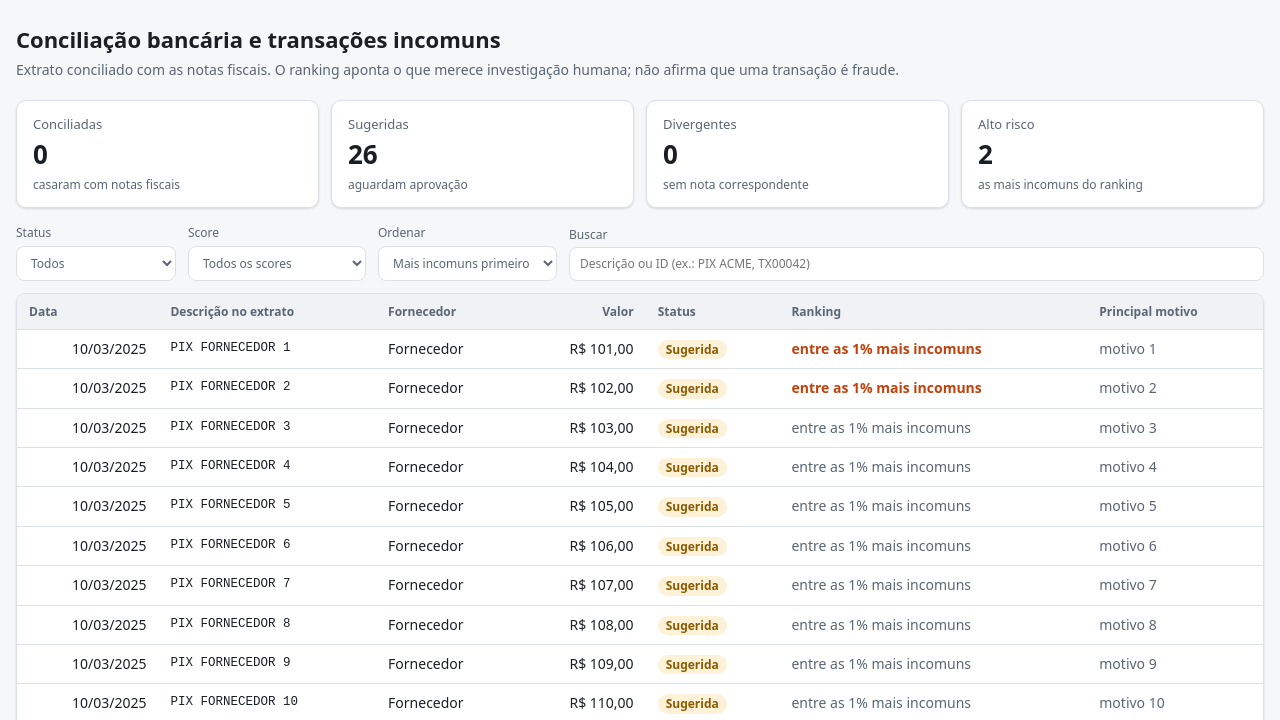
Test case: Dashboard › keeps a review error on the transaction it belongs to
The image size is (1280, 720).
Click the text "PIX FORNECEDOR 1".
click(267, 349)  # box [158,329,376,369]
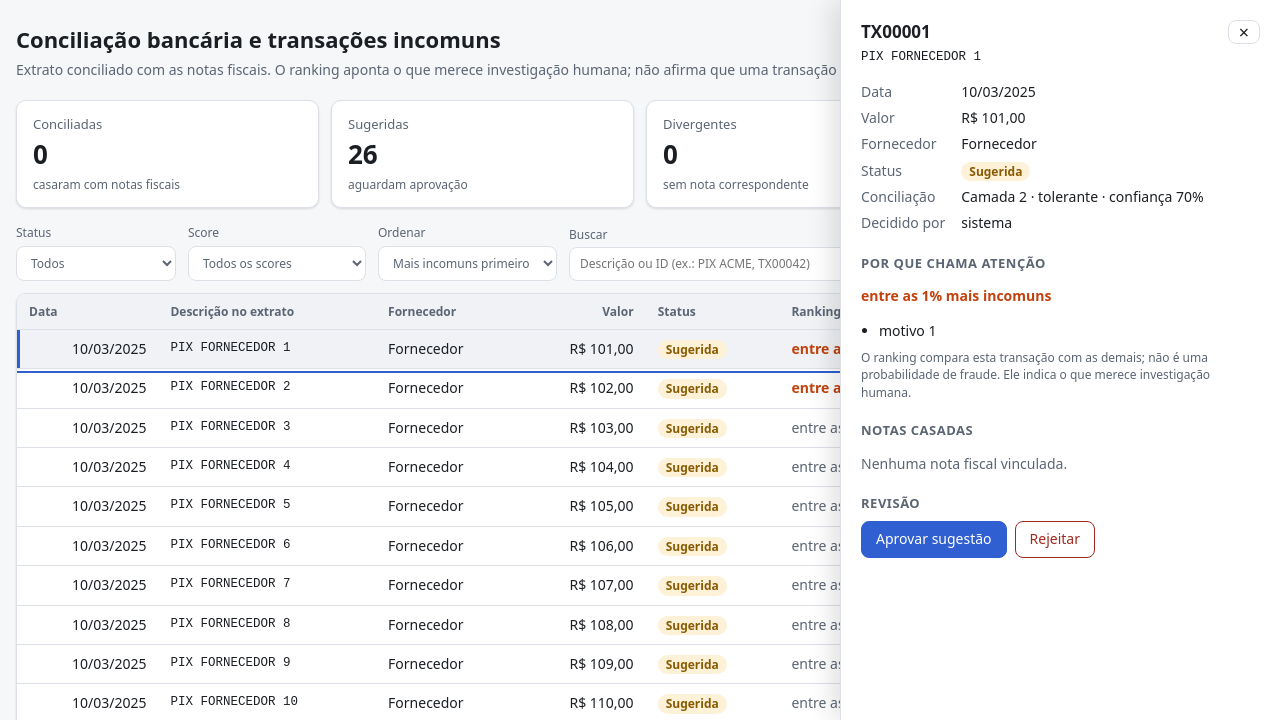
Click the button "Aprovar sugestão".
click(934, 539)  # box [861,521,1007,558]
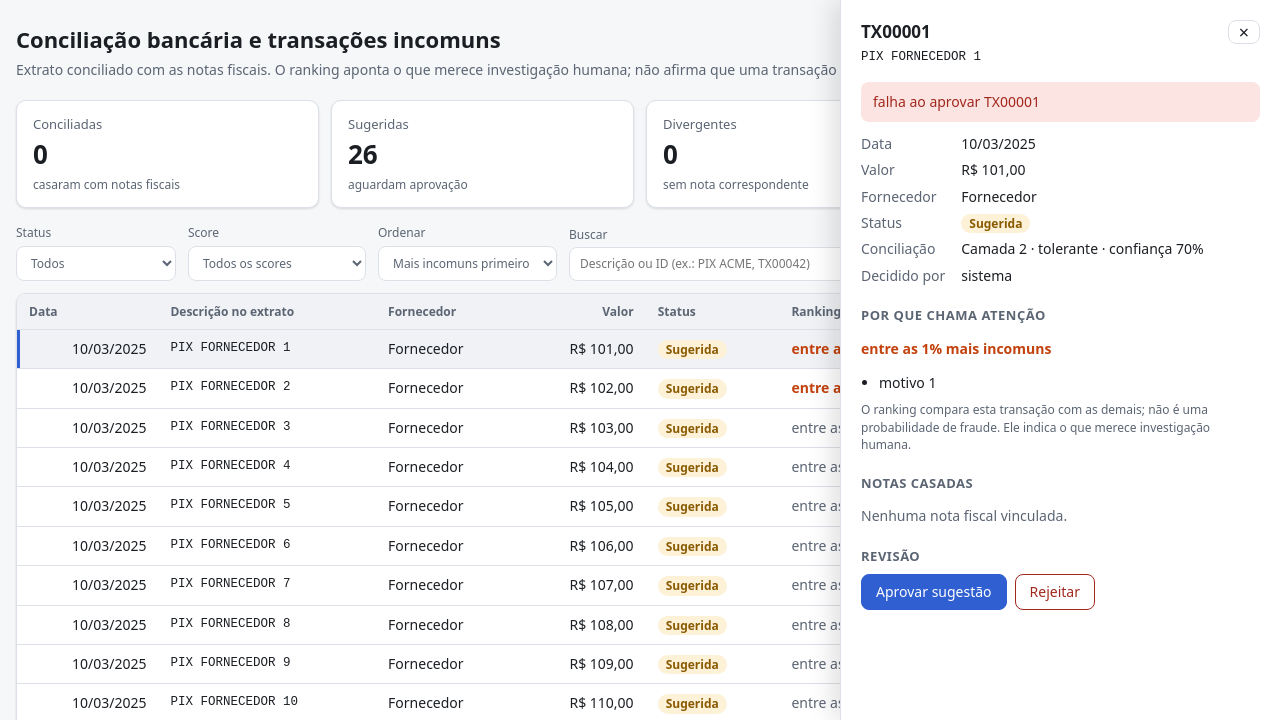
Now the text "falha ao aprovar TX00001" is shown, box [861,82,1260,122]
Click the cell "PIX FORNECEDOR 2".
click(267, 388)  # box [158,369,376,408]
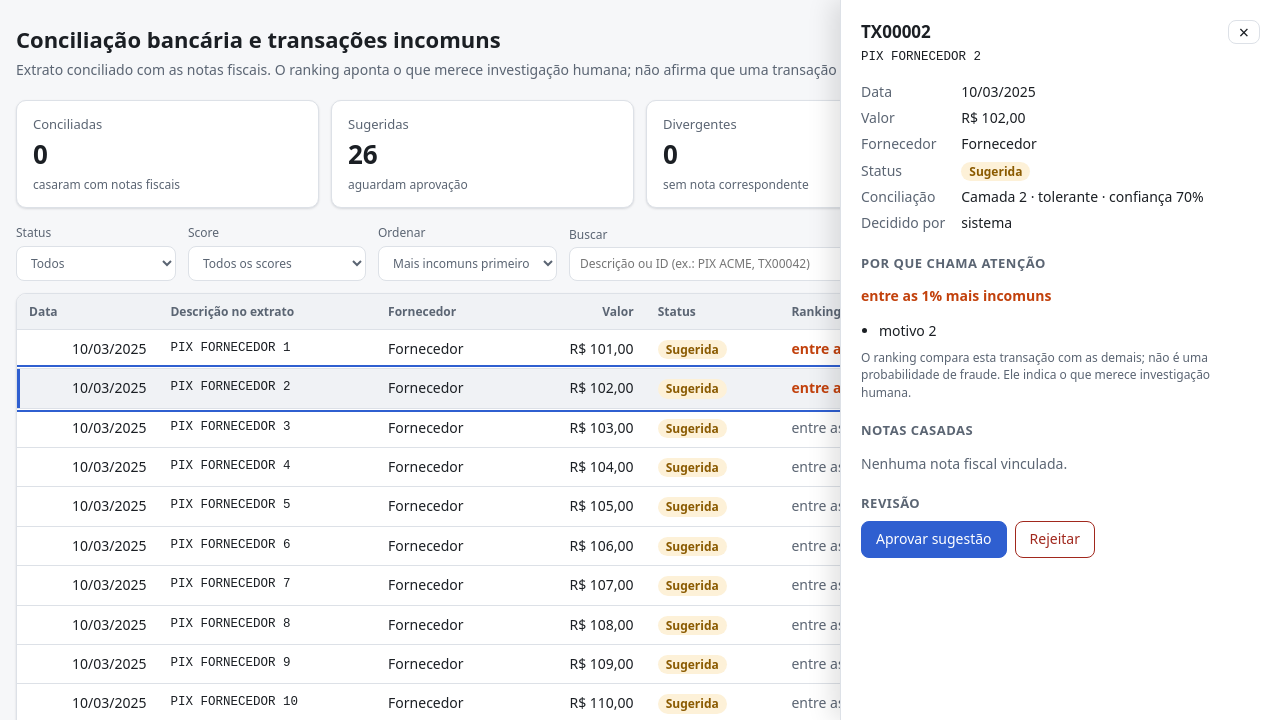
Now the heading "TX00002" is shown, box [861,20,931,43]
Now the message "falha ao aprovar TX00001" is gone
